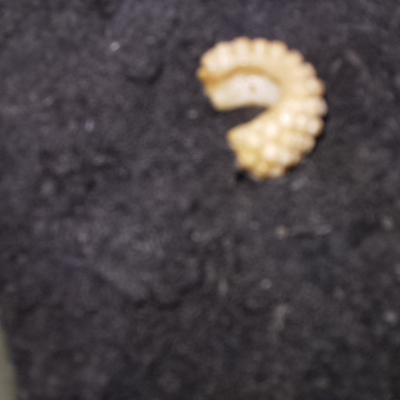eggs: (187, 27, 339, 185)
